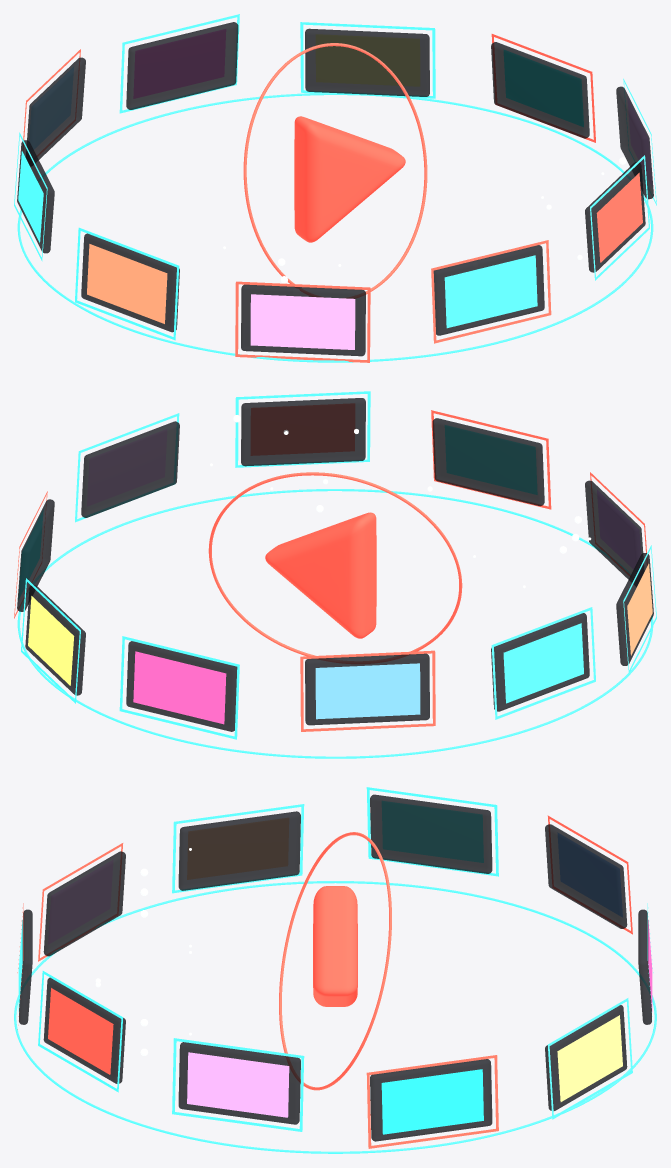
File: hero-holo.glb
3 renders of one model, top to bottom at view 1: azimuth 30°, elevation 25°; view 2: azimuth 150°, elevation 25°; view 3: azimuth 270°, elevation 25°, orthographic.
Visible parts, largest first — view 1: core, tile_04, tile_05, tile_03, tile_09_screen, tile_00_screen, tile_04_screen, tile_05_screen, tile_08_screen, orbit_0, tile_03_screen, tile_06 (+18 smaller); view 2: core, tile_01, tile_00, tile_02, tile_06_screen, tile_01_screen, tile_05_screen, tile_00_screen, tile_07_screen, orbit_0, tile_02_screen, tile_09 (+18 smaller); view 3: tile_08, tile_07, tile_02_screen, tile_03_screen, core, tile_09, tile_06, tile_07_screen, tile_08_screen, orbit_0, tile_01_screen, tile_04_screen (+17 smaller).
Boxes of the visible parts, x1,y1,x2,y2 form: core: [294, 116, 405, 242]; tile_04: [305, 28, 429, 96]; tile_05: [126, 22, 238, 109]; tile_03: [491, 42, 589, 138]; tile_09_screen: [250, 294, 355, 349]; tile_00_screen: [444, 255, 537, 328]; tile_04_screen: [316, 35, 419, 85]; tile_05_screen: [134, 29, 225, 98]; tile_08_screen: [87, 244, 167, 323]; orbit_0: [17, 93, 653, 362]; tile_03_screen: [504, 50, 583, 126]; tile_06: [26, 57, 85, 165]; core: [265, 512, 376, 638]; tile_01: [241, 398, 365, 466]; tile_00: [432, 418, 544, 506]; tile_02: [81, 421, 179, 517]; tile_06_screen: [315, 663, 420, 719]; tile_01_screen: [251, 404, 354, 455]; tile_05_screen: [133, 651, 226, 724]; tile_00_screen: [445, 425, 536, 494]; tile_07_screen: [503, 623, 583, 703]; orbit_0: [17, 489, 653, 758]; tile_02_screen: [87, 429, 166, 505]; tile_09: [585, 480, 643, 586]; tile_08: [178, 811, 300, 890]; tile_07: [370, 794, 492, 873]; tile_02_screen: [187, 1052, 289, 1117]; tile_03_screen: [381, 1069, 483, 1134]; core: [313, 886, 357, 1006]; tile_09: [43, 851, 125, 956]; tile_06: [545, 824, 627, 928]; tile_07_screen: [382, 801, 483, 862]; tile_08_screen: [187, 818, 288, 879]; orbit_0: [14, 881, 656, 1153]; tile_01_screen: [48, 988, 113, 1074]; tile_04_screen: [557, 1015, 622, 1101].
Size of the model in its own units: 4.91 by 1.89 by 4.88.
